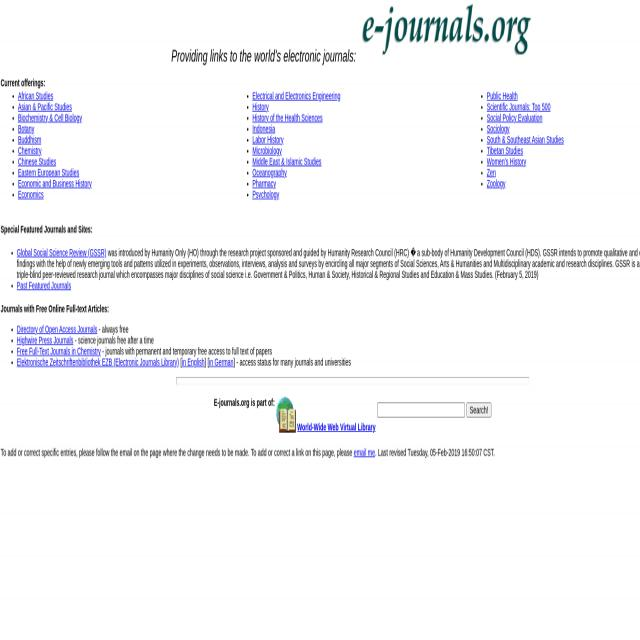button: (358, 0, 534, 61), (275, 396, 295, 432), (466, 401, 491, 417)
field: (376, 401, 464, 417)
